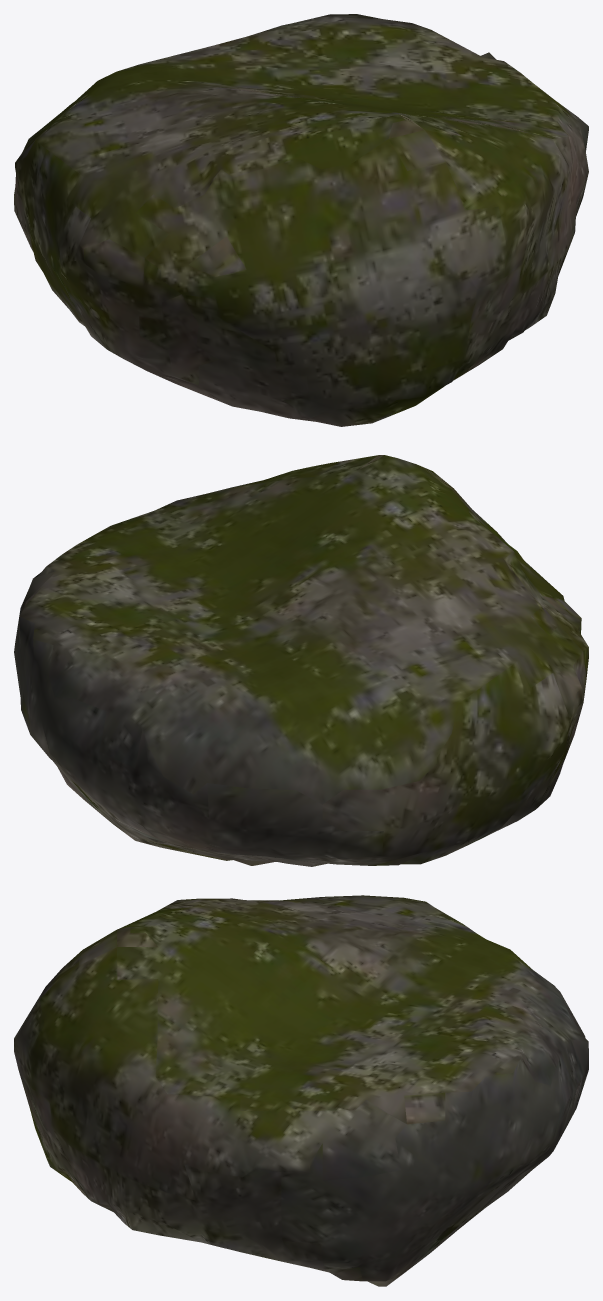
Rendered from rock2.glb.
3 renders of one model, top to bottom at view 1: azimuth 30°, elevation 25°; view 2: azimuth 150°, elevation 25°; view 3: azimuth 270°, elevation 25°, orthographic. The views are drawn at different scales.
Parts seen in each view (by area): view 1: A_Set.001; view 2: A_Set.001; view 3: A_Set.001.
Boxes of the visible parts, <box> form: A_Set.001: <box>14,14,588,426</box>; A_Set.001: <box>14,455,588,866</box>; A_Set.001: <box>14,895,588,1286</box>.
Size of the model in its own units: 5.6 by 3.23 by 5.59.
1 material, 1 textured.
